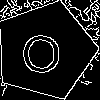O: (20, 26, 62, 74)
